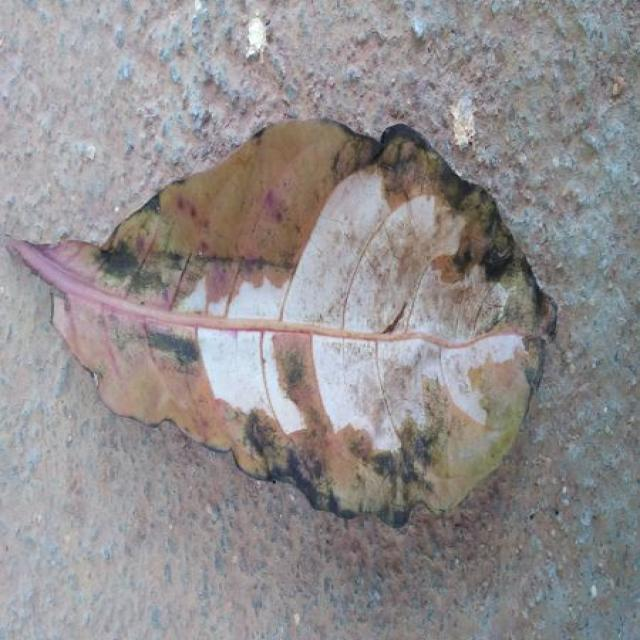disease in leaf: (10, 121, 555, 525)
late blightcaricature: (10, 121, 555, 525)
